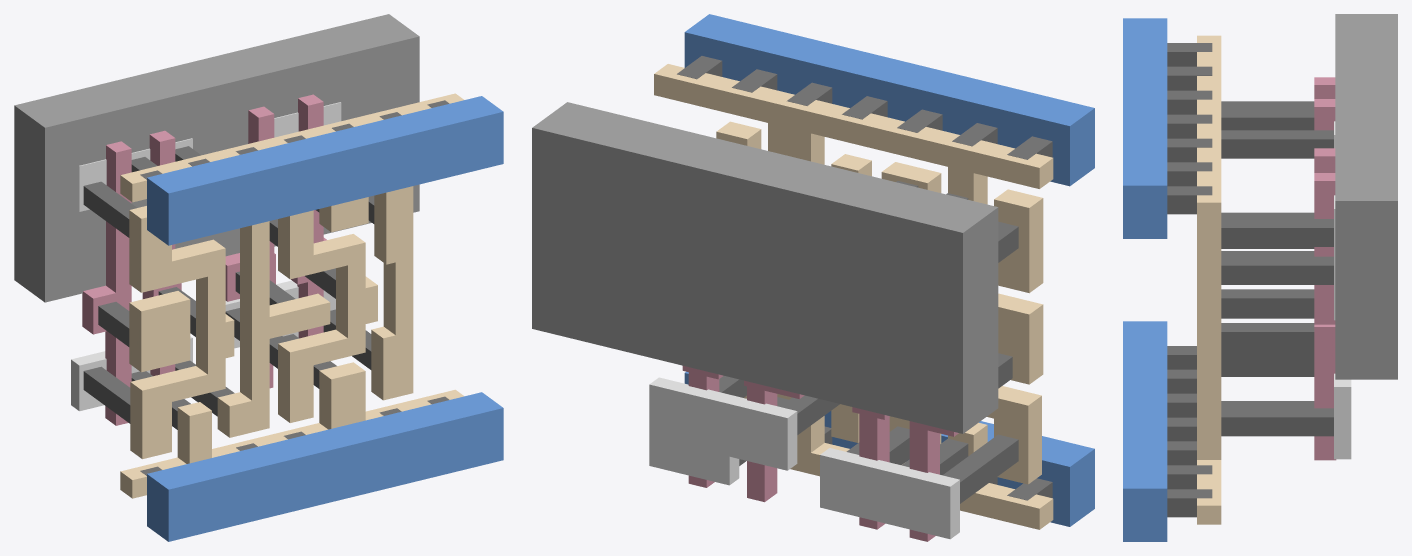
Rendered from sky130_fd_sc_hd__dlygate4sd1_1.gds.gltf.
3 renders of one model, left to right at view 1: azimuth 30°, elevation 25°; view 2: azimuth 150°, elevation 25°; view 3: azimuth 270°, elevation 25°, orthographic. The views are drawn at different scales.
Parts seen in each view (by area): view 1: sky130_fd_sc_hd__dlygate4sd1_1_li1, sky130_fd_sc_hd__dlygate4sd1_1_met1, sky130_fd_sc_hd__dlygate4sd1_1_nwell, sky130_fd_sc_hd__dlygate4sd1_1_poly, sky130_fd_sc_hd__dlygate4sd1_1_licon, sky130_fd_sc_hd__dlygate4sd1_1_diff, sky130_fd_sc_hd__dlygate4sd1_1_mcon; view 2: sky130_fd_sc_hd__dlygate4sd1_1_nwell, sky130_fd_sc_hd__dlygate4sd1_1_li1, sky130_fd_sc_hd__dlygate4sd1_1_met1, sky130_fd_sc_hd__dlygate4sd1_1_diff, sky130_fd_sc_hd__dlygate4sd1_1_licon, sky130_fd_sc_hd__dlygate4sd1_1_poly, sky130_fd_sc_hd__dlygate4sd1_1_mcon; view 3: sky130_fd_sc_hd__dlygate4sd1_1_licon, sky130_fd_sc_hd__dlygate4sd1_1_nwell, sky130_fd_sc_hd__dlygate4sd1_1_met1, sky130_fd_sc_hd__dlygate4sd1_1_mcon, sky130_fd_sc_hd__dlygate4sd1_1_li1, sky130_fd_sc_hd__dlygate4sd1_1_poly, sky130_fd_sc_hd__dlygate4sd1_1_diff.
Part boxes in pixels (bbox=[...]): sky130_fd_sc_hd__dlygate4sd1_1_li1: bbox=[120, 93, 463, 498]; sky130_fd_sc_hd__dlygate4sd1_1_met1: bbox=[147, 96, 503, 541]; sky130_fd_sc_hd__dlygate4sd1_1_nwell: bbox=[14, 14, 419, 302]; sky130_fd_sc_hd__dlygate4sd1_1_poly: bbox=[82, 94, 326, 425]; sky130_fd_sc_hd__dlygate4sd1_1_licon: bbox=[83, 146, 374, 429]; sky130_fd_sc_hd__dlygate4sd1_1_diff: bbox=[71, 102, 341, 411]; sky130_fd_sc_hd__dlygate4sd1_1_mcon: bbox=[140, 100, 449, 475]; sky130_fd_sc_hd__dlygate4sd1_1_nwell: bbox=[532, 102, 998, 433]; sky130_fd_sc_hd__dlygate4sd1_1_li1: bbox=[654, 64, 1053, 529]; sky130_fd_sc_hd__dlygate4sd1_1_met1: bbox=[684, 14, 1094, 526]; sky130_fd_sc_hd__dlygate4sd1_1_diff: bbox=[649, 377, 959, 539]; sky130_fd_sc_hd__dlygate4sd1_1_licon: bbox=[719, 181, 1018, 503]; sky130_fd_sc_hd__dlygate4sd1_1_poly: bbox=[682, 366, 958, 541]; sky130_fd_sc_hd__dlygate4sd1_1_mcon: bbox=[677, 56, 1052, 500]; sky130_fd_sc_hd__dlygate4sd1_1_licon: bbox=[1221, 101, 1333, 436]; sky130_fd_sc_hd__dlygate4sd1_1_nwell: bbox=[1335, 14, 1397, 379]; sky130_fd_sc_hd__dlygate4sd1_1_met1: bbox=[1123, 18, 1167, 541]; sky130_fd_sc_hd__dlygate4sd1_1_mcon: bbox=[1167, 43, 1212, 517]; sky130_fd_sc_hd__dlygate4sd1_1_li1: bbox=[1197, 35, 1221, 524]; sky130_fd_sc_hd__dlygate4sd1_1_poly: bbox=[1314, 77, 1336, 460]; sky130_fd_sc_hd__dlygate4sd1_1_diff: bbox=[1334, 121, 1351, 459].
Bounding box in the file's own units: 3.6 × 3.2 × 2.24.
